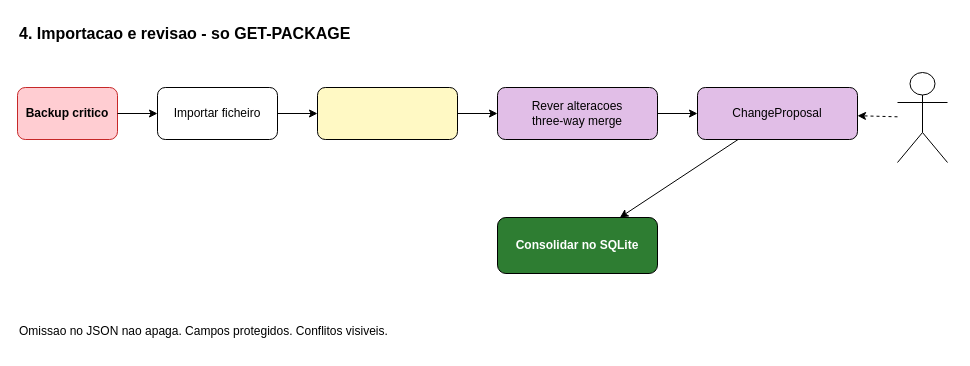
The diagram is 970 pixels wide and 366 high, and some of its shapes have lost their labels. The shapes that lost their labels are listed below. From the top down, each one's centre as x and y in pixels, then its label:
At [387,113]: "Validacao".
At [922,117]: "Engenheiro".
